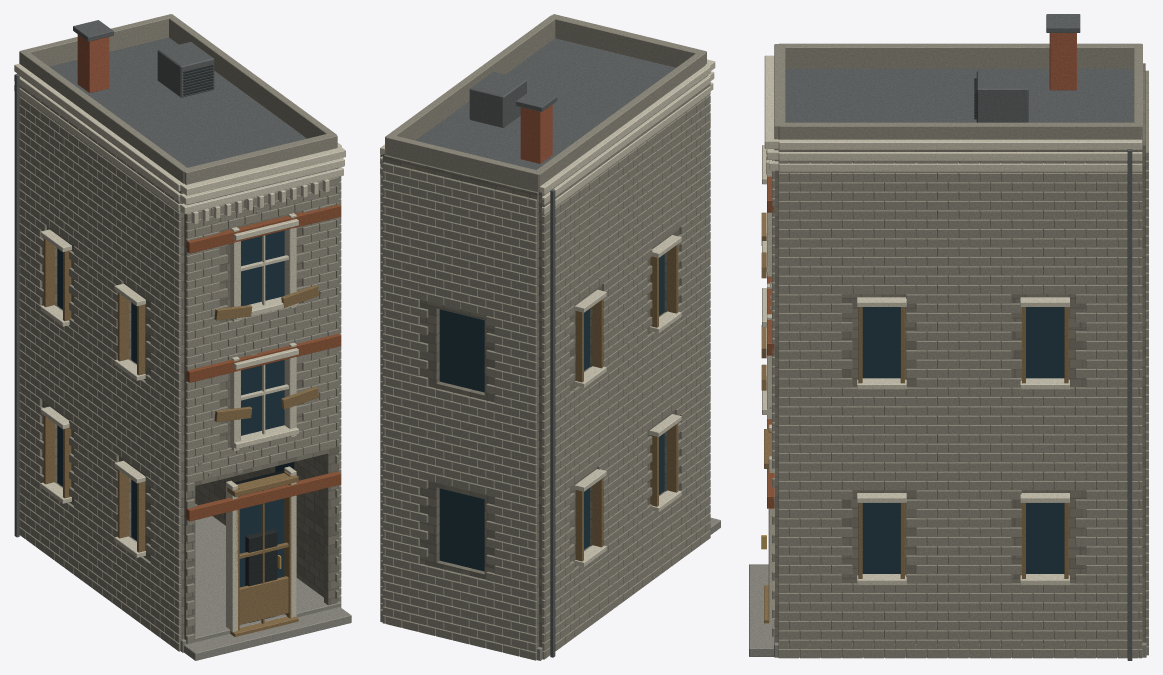
File: WHSE22_lod0.glb
The picture shows the model from 3 angles, left to right: view 1: azimuth 30°, elevation 25°; view 2: azimuth 150°, elevation 25°; view 3: azimuth 270°, elevation 25°; orthographic projection. The views are drawn at different scales.
Visible parts, largest first — view 1: WHSE22_LOD0; view 2: WHSE22_LOD0; view 3: WHSE22_LOD0.
Part boxes in pixels (x1,y1,x2,y2): WHSE22_LOD0: (14, 14, 351, 660); WHSE22_LOD0: (380, 14, 720, 660); WHSE22_LOD0: (749, 14, 1148, 660).
Size of the model in its own units: 3.71 by 10.45 by 6.6.
14 materials, 11 textured.
